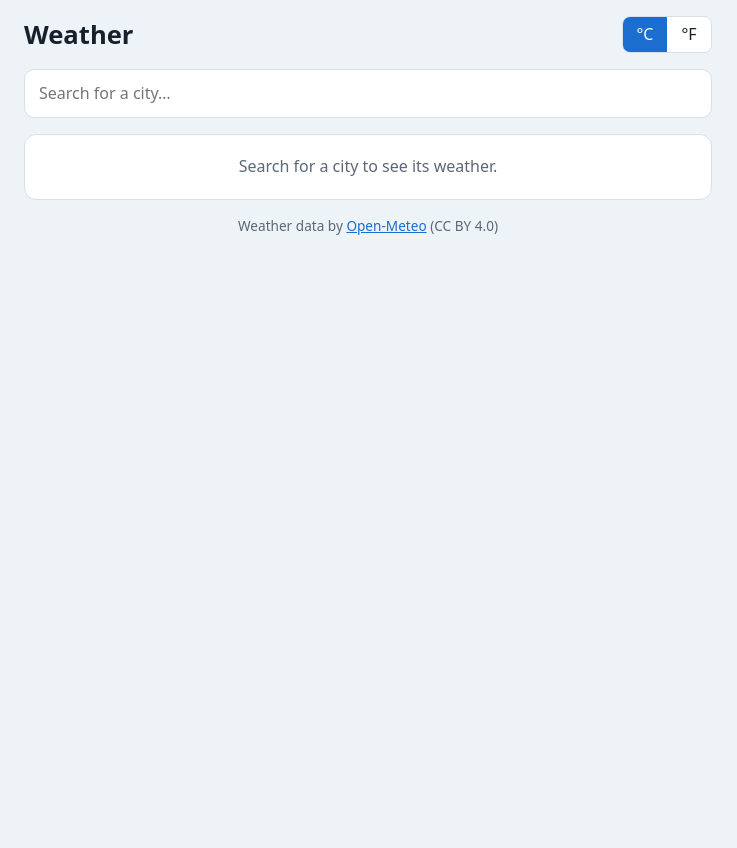
App › renders user-visible placeholders for missing readings
This screenshot has width=737, height=848.
Step 1. Type "Berlin" into the dropdown with placeholder "Search for a city…" → (368, 94), box x1=24 y1=69 x2=712 y2=118
Wait 250 ms
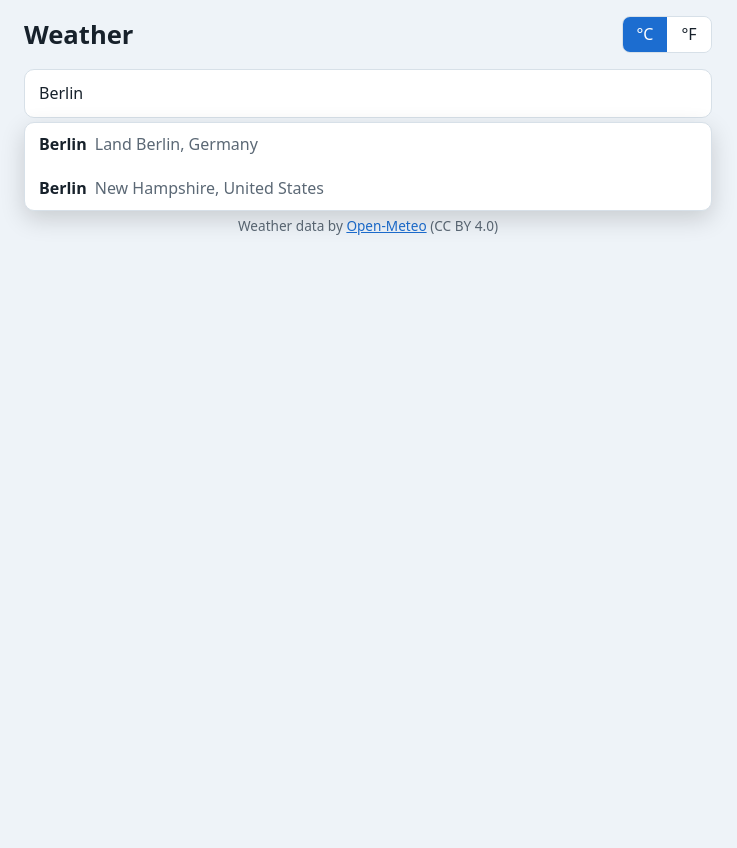
Step 2. Click the option "Berlin Land Berlin, Germany" → (148, 144), box x1=39 y1=133 x2=258 y2=155
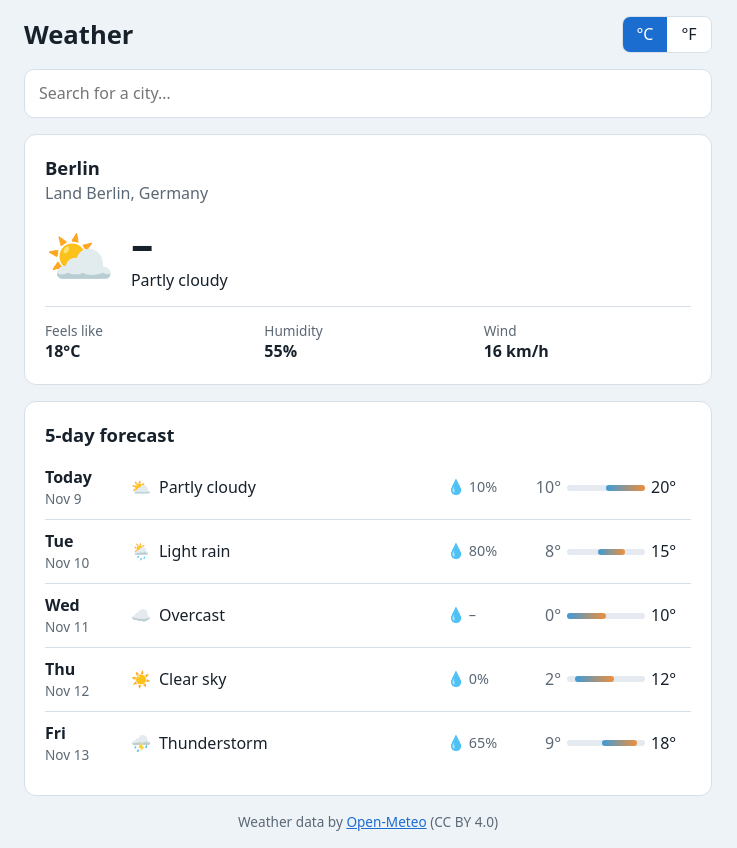
Expected: the list item with test id "day" shows "–", x1=465 y1=605 x2=476 y2=624
Expected: the text with test id "current-temp" reads "–", x1=131 y1=213 x2=153 y2=274
